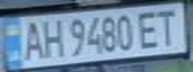0: (115, 11, 139, 52)
4: (84, 14, 103, 54)
8: (100, 12, 121, 53)
9: (63, 15, 87, 56)
A: (18, 18, 48, 61)
E: (136, 8, 163, 50)
H: (39, 16, 66, 58)
T: (151, 6, 184, 46)
